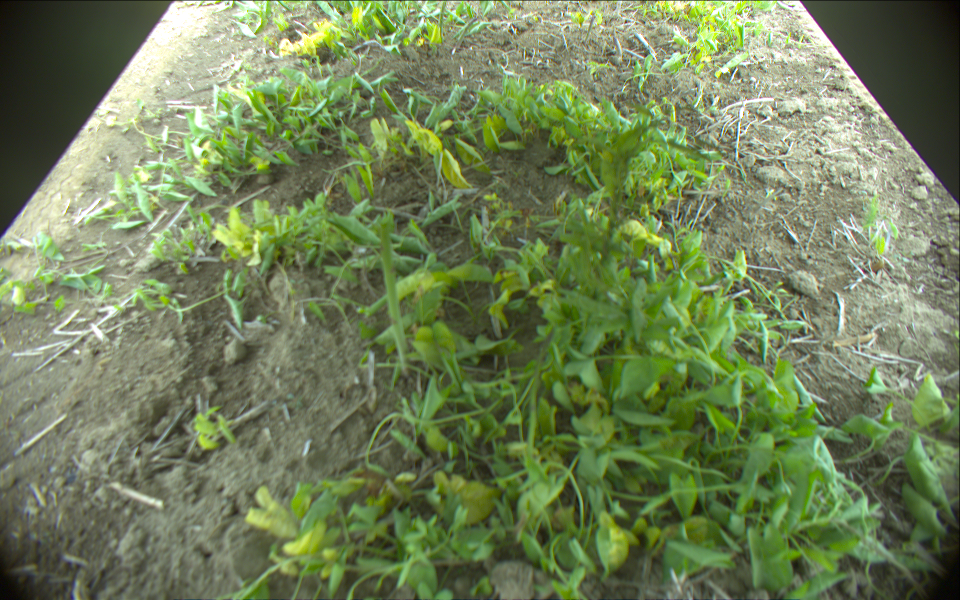aspa: (375, 213, 409, 375)
